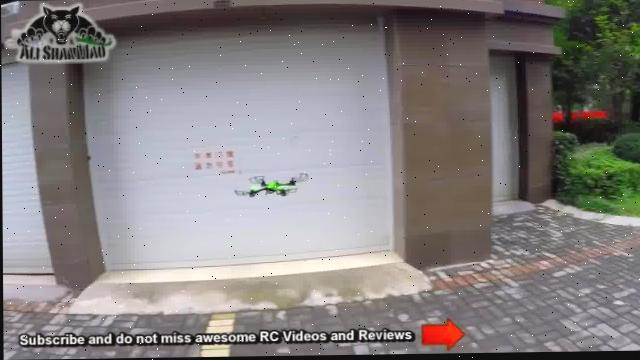drone: (232, 173, 303, 202)
